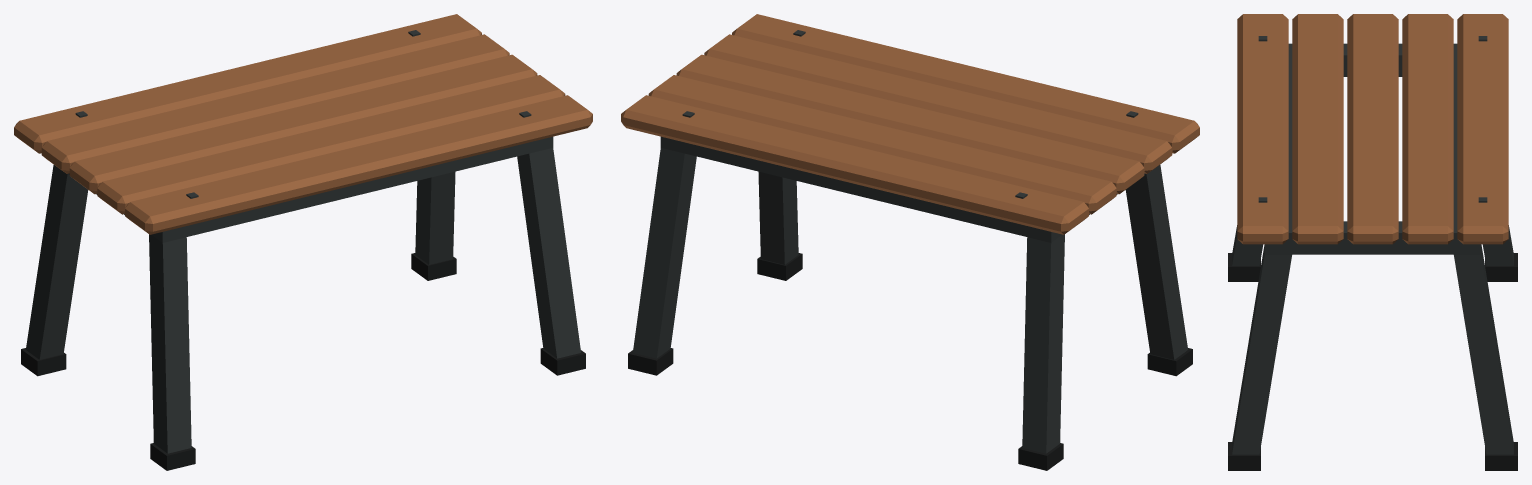
Rendered from railwood-table.glb.
The picture shows the model from 3 angles, left to right: view 1: azimuth 30°, elevation 25°; view 2: azimuth 150°, elevation 25°; view 3: azimuth 270°, elevation 25°; orthographic projection.
Parts seen in each view (by area): view 1: Five-piece oak tabletop, merged-One-piece formed steel table frame, Four replaceable rubber boot feet; view 2: Five-piece oak tabletop, merged-One-piece formed steel table frame, Four replaceable rubber boot feet; view 3: Five-piece oak tabletop, merged-One-piece formed steel table frame, Four replaceable rubber boot feet.
Boxes of the visible parts, bbox=[...] form: Five-piece oak tabletop: bbox=[14, 14, 592, 234]; merged-One-piece formed steel table frame: bbox=[26, 30, 580, 453]; Four replaceable rubber boot feet: bbox=[21, 253, 585, 470]; Five-piece oak tabletop: bbox=[621, 14, 1199, 234]; merged-One-piece formed steel table frame: bbox=[633, 30, 1187, 453]; Four replaceable rubber boot feet: bbox=[628, 253, 1192, 470]; Five-piece oak tabletop: bbox=[1237, 14, 1508, 244]; merged-One-piece formed steel table frame: bbox=[1232, 36, 1513, 454]; Four replaceable rubber boot feet: bbox=[1228, 253, 1517, 470].
Bounding box in the file's own units: 1.4 × 0.7548 × 0.79.
